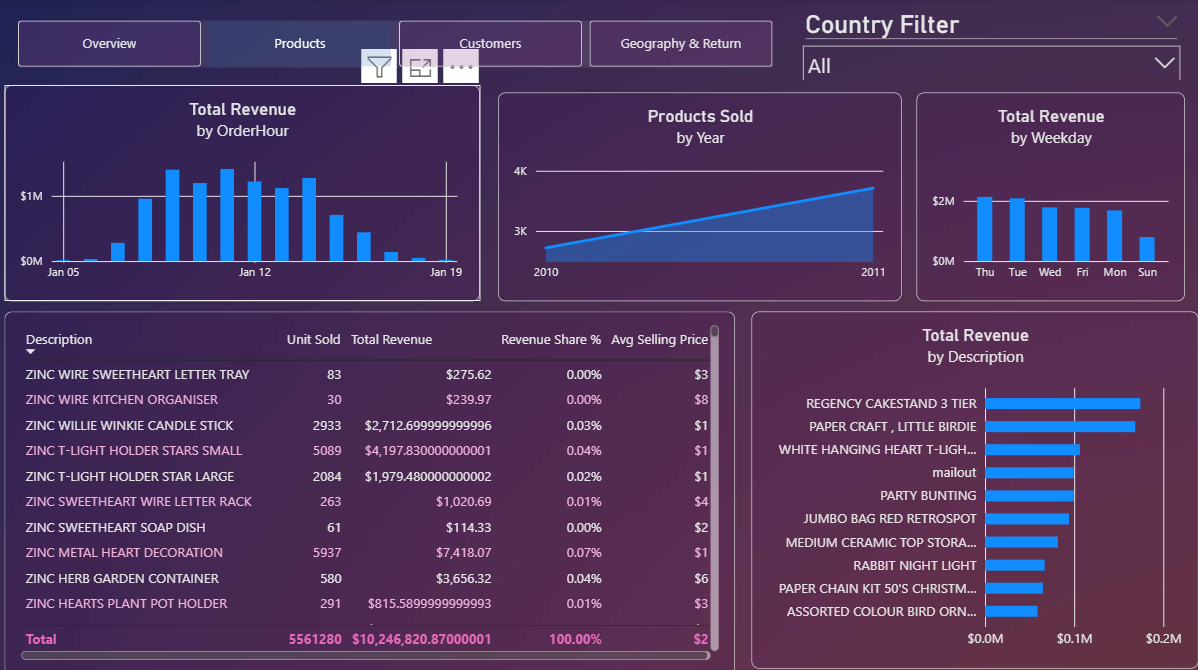

Layout of this report page (visuals, bound fields, positions):
{"tool":"powerbi","page":{"name":"Products","canvas":[1920,1080],"ordinal":1},"visuals":[{"type":"clusteredColumnChart","fields":{"Category":["Fact_Sales.OrderHour"],"Y":["Data.Total Revenue"]},"box":[28,176.6,787.6,308.3],"z":0},{"type":"lineChart","fields":{"Category":["Dim_Date.Year"],"Y":["Data.Products Sold"]},"box":[843.7,176.6,622.2,308.3],"z":1},{"type":"clusteredBarChart","fields":{"Category":["Dim_Product.Description"],"Y":["Data.Total Revenue"]},"box":[843.7,510.1,1048.3,484.9],"z":2},{"type":"clusteredColumnChart","fields":{"Category":["Dim_Date.Weekday"],"Y":["Data.Total Revenue"]},"box":[1488.4,176.6,403.6,308.3],"z":3},{"type":"tableEx","fields":{"Values":["Dim_Product.Description","Data.Units Sold","Data.Total Revenue","Data.Revenue Share %"]},"box":[28,510.1,787.6,484.9],"z":4},{"type":"pageNavigator","box":[28,64.5,1182.8,84.1],"z":5},{"type":"slicer","fields":{"Values":["Dim_Country.Country"]},"box":[1275.3,47.6,616.6,114.9],"z":7}]}

Visuals, with their boxes in screenshot pixels (x1, y1, x2, y2), scaled from the page's 1920x1080 canvas onto the 1198x670 screenshot:
clusteredColumnChart - Fact_Sales.OrderHour x Data.Total Revenue: crop(17, 110, 509, 301)
lineChart - Dim_Date.Year x Data.Products Sold: crop(526, 110, 915, 301)
clusteredBarChart - Dim_Product.Description x Data.Total Revenue: crop(526, 316, 1181, 617)
clusteredColumnChart - Dim_Date.Weekday x Data.Total Revenue: crop(929, 110, 1181, 301)
tableEx - Dim_Product.Description x Data.Units Sold: crop(17, 316, 509, 617)
pageNavigator: crop(17, 40, 755, 92)
slicer - Dim_Country.Country: crop(796, 30, 1180, 101)
